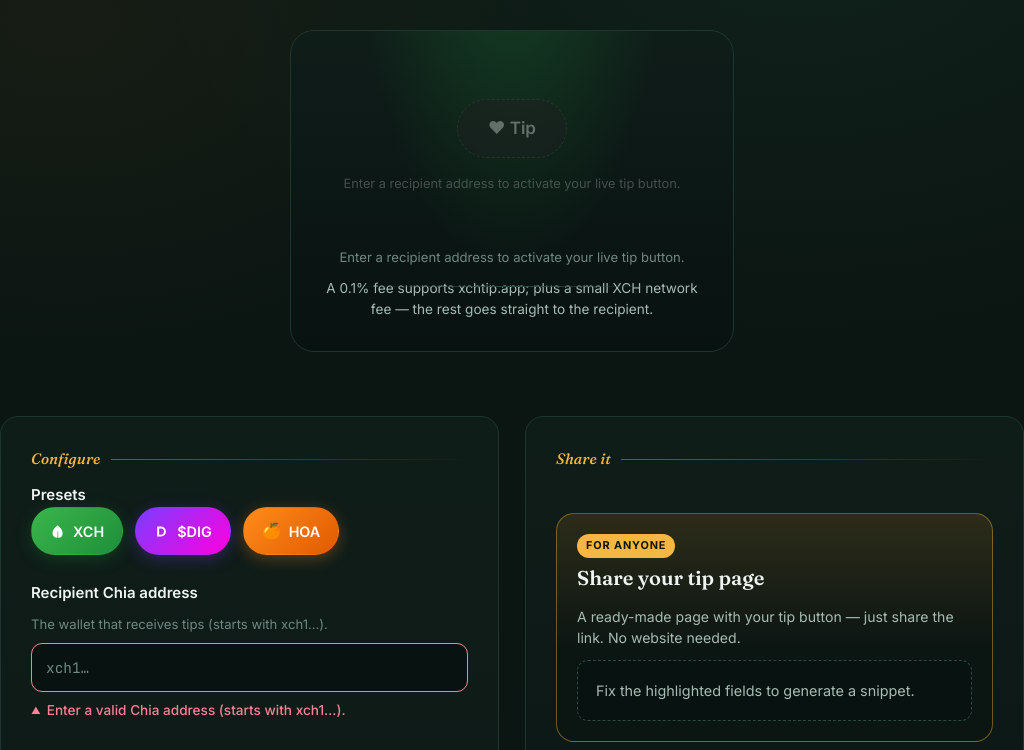
BuilderPanel › blocks the snippet until a valid recipient is entered
Step 1. Type "xch1qyqszqgpqyqszqgpqyqszqgpqyqszqgpqyqszqgpqyqszqgpqyqs0wg4qq" into the field with test id "input-recipient" → (250, 667), box top-left (31, 642), bottom-right (468, 692)
(page scrolled)
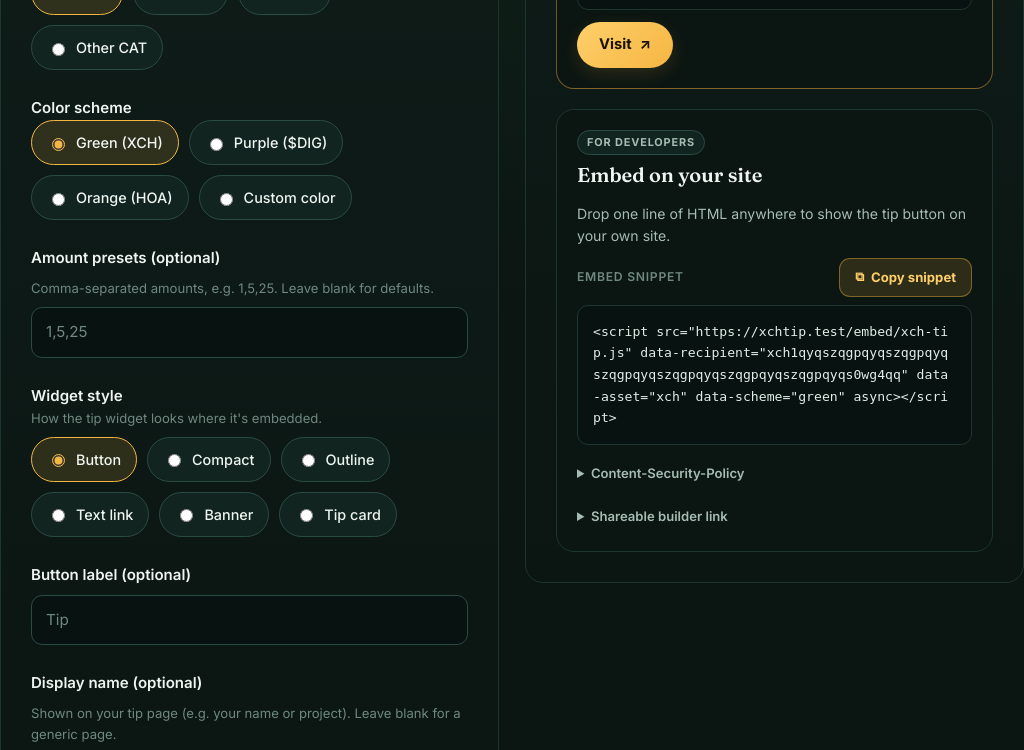
Expected: the element with test id "snippet-output" shows "xch-tip.js", top-left (593, 324), bottom-right (948, 425)
